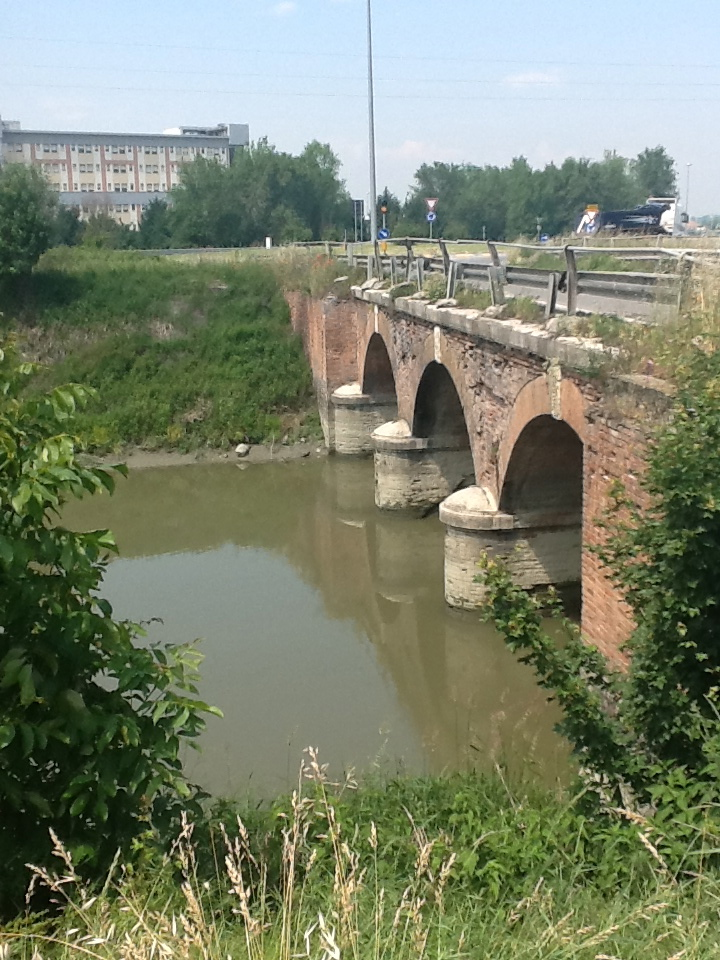Spalling: (446, 332, 544, 461), (385, 309, 433, 390), (503, 576, 579, 608), (564, 374, 606, 424), (419, 503, 442, 516)
